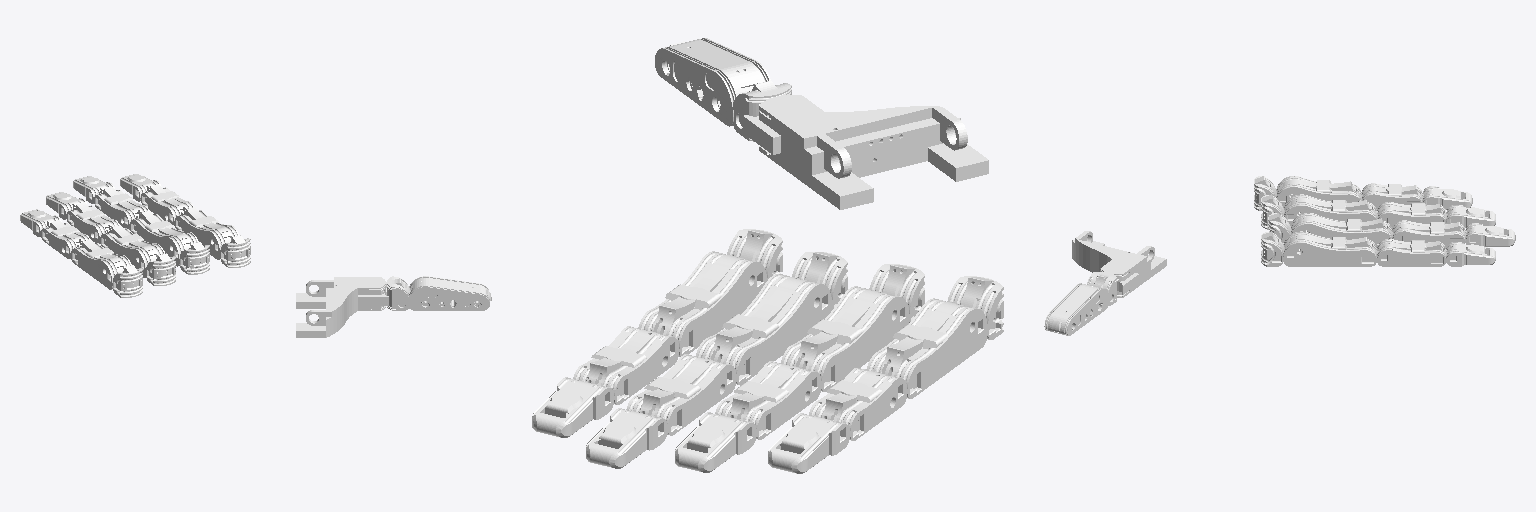
--- Facts derived from the render (not from the file) ---
The picture shows the robot from 3 angles, left to right: view 1: azimuth 30°, elevation 25°; view 2: azimuth 150°, elevation 25°; view 3: azimuth 270°, elevation 25°; orthographic projection.
Robot: converted_robot — 93 links, 92 joints (37 revolute, 55 fixed); root link root; default pose: every joint at zero.
Links seen in each view (by area): view 1: thumb_base, thumb_mp, middle_pp, pinky_pp, index_pp, ring_pp, middle_mp, ring_mp, index_mp, pinky_mp, index_um, middle_um (+7 smaller); view 2: thumb_base, middle_pp, ring_pp, index_pp, pinky_pp, thumb_mp, middle_mp, ring_mp, index_mp, pinky_mp, index_dp, ring_dp (+7 smaller); view 3: thumb_base, index_pp, thumb_mp, middle_pp, index_mp, ring_pp, pinky_pp, middle_mp, ring_mp, pinky_mp, index_dp, middle_dp (+4 smaller).
Link boxes in pixels (bbox=[...]): thumb_base: bbox=[296, 277, 388, 337]; thumb_mp: bbox=[409, 276, 491, 310]; middle_pp: bbox=[130, 211, 198, 266]; pinky_pp: bbox=[71, 240, 131, 289]; index_pp: bbox=[174, 207, 239, 259]; ring_pp: bbox=[100, 225, 164, 277]; middle_mp: bbox=[94, 187, 148, 229]; ring_mp: bbox=[66, 202, 119, 243]; index_mp: bbox=[141, 184, 193, 225]; pinky_mp: bbox=[41, 220, 90, 258]; index_um: bbox=[220, 235, 250, 267]; middle_um: bbox=[179, 242, 209, 274]; thumb_base: bbox=[743, 95, 988, 209]; middle_pp: bbox=[696, 274, 831, 385]; ring_pp: bbox=[781, 286, 909, 391]; index_pp: bbox=[638, 251, 766, 356]; pinky_pp: bbox=[866, 298, 987, 398]; thumb_mp: bbox=[655, 38, 770, 126]; middle_mp: bbox=[626, 354, 736, 435]; ring_mp: bbox=[715, 361, 821, 439]; index_mp: bbox=[573, 326, 679, 404]; pinky_mp: bbox=[809, 368, 907, 440]; index_dp: bbox=[532, 377, 614, 437]; ring_dp: bbox=[675, 412, 756, 472]; thumb_base: bbox=[1072, 231, 1166, 297]; index_pp: bbox=[1283, 231, 1378, 266]; thumb_mp: bbox=[1044, 283, 1108, 335]; middle_pp: bbox=[1291, 213, 1393, 246]; index_mp: bbox=[1377, 239, 1447, 266]; ring_pp: bbox=[1284, 194, 1378, 225]; pinky_pp: bbox=[1276, 176, 1362, 207]; middle_mp: bbox=[1392, 220, 1466, 247]; ring_mp: bbox=[1377, 202, 1447, 228]; pinky_mp: bbox=[1362, 183, 1423, 209]; index_dp: bbox=[1446, 242, 1495, 266]; middle_dp: bbox=[1466, 223, 1515, 246].
Bounding box of the posed robot: 0.1598 × 0.2312 × 0.0157 m (x, y, z).
19 mesh visuals loaded from 20 distinct referenced files (19 binary STL); not drawn: 1 (reference not matched to a file when rendering).

URDF robot description (converted_robot):
<?xml version="1.0" ?>
<robot name="converted_robot">
   <link name="root">
      <inertial>
         <origin xyz="0.0 0.0 0.0" rpy="0.0 0.0 0.0"/>
         <mass value="0.0"/>
         <inertia ixx="0.0" iyy="0.0" izz="0.0" ixy="0" ixz="0" iyz="0"/>
      </inertial>
   </link>
   <link name="palm">
      <inertial>
         <origin xyz="-0.009750183589572366 0.04021403488529142 -0.00039237105510929893" rpy="2.3172560848423656 -1.562874237700241 2.192255222809746"/>
         <mass value="0.16567872925570942"/>
         <inertia ixx="0.0002358825828115673" iyy="0.00017096319828277548" izz="6.854952483029862e-05" ixy="0" ixz="0" iyz="0"/>
      </inertial>
      <visual name="palm_tower">
         <origin xyz="-0.009750183589572366 0.04021403488529142 -0.00039237105510929893" rpy="2.3172560848423656 -1.562874237700241 2.192255222809746"/>
         <geometry>
            <mesh filename="package://viz/models/URDF_Simulation1/converted_palm_tower.stl"/>
         </geometry>
         <material name="white"/>
      </visual>
   </link>
   <link name="root2palm_fixed_jointbody">
      <inertial>
         <origin xyz="0.0 0.0 0.0" rpy="0.0 0.0 0.0"/>
         <mass value="0.001"/>
         <inertia ixx="1e-09" iyy="1e-09" izz="1e-09" ixy="0" ixz="0" iyz="0"/>
      </inertial>
   </link>
   <joint type="fixed" name="root2palm_fixed">
      <parent link="root"/>
      <child link="root2palm_fixed_jointbody"/>
      <origin xyz="0.0 0.0 0.0" rpy="0.0 0.0 0.0"/>
   </joint>
   <joint type="fixed" name="root2palm_fixed_offset">
      <parent link="root2palm_fixed_jointbody"/>
      <child link="palm"/>
      <origin xyz="-0.0 -0.0 -0.0" rpy="0.0 0.0 0.0"/>
   </joint>
   <link name="thumb_base">
      <inertial>
         <origin xyz="-0.05388722858794558 -0.08972924545530461 0.0056400640968846715" rpy="1.1981321937913696 -1.4948979105066995 0.7661853183228415"/>
         <mass value="0.015400950262490496"/>
         <inertia ixx="4.057013831282678e-06" iyy="3.3189900464939896e-06" izz="1.0886313012479005e-06" ixy="0" ixz="0" iyz="0"/>
      </inertial>
      <visual name="thumb_base">
         <origin xyz="-0.05388722858794558 -0.08972924545530461 0.0056400640968846715" rpy="1.1981321937913676 -1.4948979105066995 0.7661853183228435"/>
         <geometry>
            <mesh filename="package://viz/models/URDF_Simulation1/converted_thumb_base.stl"/>
         </geometry>
         <material name="white"/>
      </visual>
   </link>
   <link name="root2thumb_base_jointbody">
      <inertial>
         <origin xyz="0.0 0.0 0.0" rpy="0.0 0.0 0.0"/>
         <mass value="0.001"/>
         <inertia ixx="1e-09" iyy="1e-09" izz="1e-09" ixy="0" ixz="0" iyz="0"/>
      </inertial>
   </link>
   <joint type="revolute" name="root2thumb_base">
      <parent link="palm"/>
      <child link="root2thumb_base_jointbody"/>
      <origin xyz="0.01810025051214078 0.00810024353395844 0.002000000000000001" rpy="0.0 0.0 1.5707999999999998"/>
      <axis xyz="0.872045190552692 -0.48942536267945813 0.0"/>
      <limit lower="-2.27" upper="0.0" effort="100" velocity="100"/>
   </joint>
   <joint type="fixed" name="root2thumb_base_offset">
      <parent link="root2thumb_base_jointbody"/>
      <child link="thumb_base"/>
      <origin xyz="0.0682 0.0663 -0.009" rpy="0.0 0.0 0.0"/>
   </joint>
   <link name="thumb_um_virt">
      <inertial>
         <origin xyz="0.0 0.0 0.0" rpy="0.0 0.0 0.0"/>
         <mass value="0.001"/>
         <inertia ixx="4e-10" iyy="4e-10" izz="3e-10" ixy="0" ixz="0" iyz="0"/>
      </inertial>
   </link>
   <link name="thumb_abd_virt_jointbody">
      <inertial>
         <origin xyz="0.0 0.0 0.0" rpy="0.0 0.0 0.0"/>
         <mass value="0.001"/>
         <inertia ixx="1e-09" iyy="1e-09" izz="1e-09" ixy="0" ixz="0" iyz="0"/>
      </inertial>
   </link>
   <joint type="revolute" name="thumb_abd_virt">
      <parent link="thumb_base"/>
      <child link="thumb_abd_virt_jointbody"/>
      <origin xyz="-0.05696 -0.11383 0.0" rpy="0.0 0.0 0.0"/>
      <axis xyz="0.0 0.0 1.0"/>
      <limit lower="-0.523599" upper="0.523599" effort="100" velocity="100"/>
   </joint>
   <joint type="fixed" name="thumb_abd_virt_offset">
      <parent link="thumb_abd_virt_jointbody"/>
      <child link="thumb_um_virt"/>
      <origin xyz="0.05696 0.11383 -0.0" rpy="0.0 0.0 0.0"/>
   </joint>
   <link name="thumb_um">
      <inertial>
         <origin xyz="-0.06002974424873159 -0.11906183356660797 0.0062186112018148216" rpy="-0.0012484400387758887 0.391076545340286 1.0465689521908192"/>
         <mass value="0.0020561829545655487"/>
         <inertia ixx="5.3193394084926844e-08" iyy="4.4699706473833634e-08" izz="4.1958930900945313e-08" ixy="0" ixz="0" iyz="0"/>
      </inertial>
      <visual name="thumb_um">
         <origin xyz="-0.06002974424873159 -0.11906183356660797 0.0062186112018148216" rpy="-0.0012484400387758887 0.391076545340286 1.0465689521908192"/>
         <geometry>
            <mesh filename="package://viz/models/URDF_Simulation1/converted_thumb_um.stl"/>
         </geometry>
         <material name="white"/>
      </visual>
   </link>
   <link name="thumb_abd_jointbody">
      <inertial>
         <origin xyz="0.0 0.0 0.0" rpy="0.0 0.0 0.0"/>
         <mass value="0.001"/>
         <inertia ixx="1e-09" iyy="1e-09" izz="1e-09" ixy="0" ixz="0" iyz="0"/>
      </inertial>
   </link>
   <joint type="revolute" name="thumb_abd">
      <parent link="thumb_um_virt"/>
      <child link="thumb_abd_jointbody"/>
      <origin xyz="-0.05696 -0.11383 0.0" rpy="0.0 0.0 0.0"/>
      <axis xyz="0.0 0.0 1.0"/>
      <limit lower="-0.523599" upper="0.523599" effort="100" velocity="100"/>
   </joint>
   <joint type="fixed" name="thumb_abd_offset">
      <parent link="thumb_abd_jointbody"/>
      <child link="thumb_um"/>
      <origin xyz="0.05696 0.11383 -0.0" rpy="0.0 0.0 0.0"/>
   </joint>
   <link name="thumb_mp_virt">
      <inertial>
         <origin xyz="0.009525 -0.041187 0.083647" rpy="-0.22291598477092758 -1.2682876286119864 0.3020329839181935"/>
         <mass value="0.001"/>
         <inertia ixx="4e-10" iyy="4e-10" izz="3e-10" ixy="0" ixz="0" iyz="0"/>
      </inertial>
   </link>
   <link name="thumb_um2mp_virt_jointbody">
      <inertial>
         <origin xyz="0.0 0.0 0.0" rpy="0.0 0.0 0.0"/>
         <mass value="0.001"/>
         <inertia ixx="1e-09" iyy="1e-09" izz="1e-09" ixy="0" ixz="0" iyz="0"/>
      </inertial>
   </link>
   <joint type="revolute" name="thumb_um2mp_virt">
      <parent link="thumb_um"/>
      <child link="thumb_um2mp_virt_jointbody"/>
      <origin xyz="-0.072947 -0.114166 0.008" rpy="0.0 0.0 0.0"/>
      <axis xyz="0.872045190552692 -0.48942536267945813 0.0"/>
      <limit lower="-1.5708" upper="0.16" effort="100" velocity="100"/>
   </joint>
   <joint type="fixed" name="thumb_um2mp_virt_offset">
      <parent link="thumb_um2mp_virt_jointbody"/>
      <child link="thumb_mp_virt"/>
      <origin xyz="0.072947 0.114166 -0.008" rpy="0.0 0.0 0.0"/>
   </joint>
   <link name="thumb_mp">
      <inertial>
         <origin xyz="-0.07215929044573305 -0.14052795432320075 0.00551798779969882" rpy="2.9311721332498637 -1.5138717843315774 -1.881310598490373"/>
         <mass value="0.007559331420198066"/>
         <inertia ixx="9.573996733464855e-07" iyy="9.284932904903027e-07" izz="1.7221260520814514e-07" ixy="0" ixz="0" iyz="0"/>
      </inertial>
      <visual name="thumb_mp">
         <origin xyz="-0.07215929044573305 -0.14052795432320075 0.00551798779969882" rpy="2.9311721332498664 -1.5138717843315772 -1.8813105984903749"/>
         <geometry>
            <mesh filename="package://viz/models/URDF_Simulation1/converted_thumb_mp.stl"/>
         </geometry>
         <material name="white"/>
      </visual>
   </link>
   <link name="thumb_um2mp_jointbody">
      <inertial>
         <origin xyz="0.0 0.0 0.0" rpy="0.0 0.0 0.0"/>
         <mass value="0.001"/>
         <inertia ixx="1e-09" iyy="1e-09" izz="1e-09" ixy="0" ixz="0" iyz="0"/>
      </inertial>
   </link>
   <joint type="revolute" name="thumb_um2mp">
      <parent link="thumb_mp_virt"/>
      <child link="thumb_um2mp_jointbody"/>
      <origin xyz="-0.062947 -0.124166 0.008" rpy="0.0 0.0 0.0"/>
      <axis xyz="0.872045190552692 -0.48942536267945813 0.0"/>
      <limit lower="-1.5708" upper="0.16" effort="100" velocity="100"/>
   </joint>
   <joint type="fixed" name="thumb_um2mp_offset">
      <parent link="thumb_um2mp_jointbody"/>
      <child link="thumb_mp"/>
      <origin xyz="0.062947 0.124166 -0.008" rpy="0.0 0.0 0.0"/>
   </joint>
   <link name="index_um_virt">
      <inertial>
         <origin xyz="0.0 0.0 0.0" rpy="0.0 0.0 0.0"/>
         <mass value="0.001"/>
         <inertia ixx="4e-10" iyy="4e-10" izz="3e-10" ixy="0" ixz="0" iyz="0"/>
      </inertial>
   </link>
   <link name="index_abd_virt_jointbody">
      <inertial>
         <origin xyz="0.0 0.0 0.0" rpy="0.0 0.0 0.0"/>
         <mass value="0.001"/>
         <inertia ixx="1e-09" iyy="1e-09" izz="1e-09" ixy="0" ixz="0" iyz="0"/>
      </inertial>
   </link>
   <joint type="revolute" name="index_abd_virt">
      <parent link="palm"/>
      <child link="index_abd_virt_jointbody"/>
      <origin xyz="0.0250405 0.0852 0.0" rpy="-1.5707963267948966 1.5707963267948966 0.0"/>
      <axis xyz="1.0 0.0 0.0"/>
      <limit lower="-0.264" upper="0.264" effort="100" velocity="100"/>
   </joint>
   <joint type="fixed" name="index_abd_virt_offset">
      <parent link="index_abd_virt_jointbody"/>
      <child link="index_um_virt"/>
      <origin xyz="-0.0 -0.0 -0.0" rpy="0.0 0.0 0.0"/>
   </joint>
   <link name="index_um">
      <inertial>
         <origin xyz="0.0003158098365906876 -0.00022882513673609314 -0.0036213650800712305" rpy="3.11344183213456 -1.2906456267839208 -3.102620114783569"/>
         <mass value="0.0017045161564725113"/>
         <inertia ixx="4.089294671130922e-08" iyy="3.323975046971373e-08" izz="2.9482536116204133e-08" ixy="0" ixz="0" iyz="0"/>
      </inertial>
      <visual name="index_um">
         <origin xyz="0.0003158098365906876 -0.00022882513673609314 -0.0036213650800712305" rpy="3.11344183213456 -1.2906456267839206 -3.102620114783569"/>
         <geometry>
            <mesh filename="package://viz/models/URDF_Simulation1/converted_index_um.stl"/>
         </geometry>
         <material name="white"/>
      </visual>
   </link>
   <link name="index_abd_jointbody">
      <inertial>
         <origin xyz="0.0 0.0 0.0" rpy="0.0 0.0 0.0"/>
         <mass value="0.001"/>
         <inertia ixx="1e-09" iyy="1e-09" izz="1e-09" ixy="0" ixz="0" iyz="0"/>
      </inertial>
   </link>
   <joint type="revolute" name="index_abd">
      <parent link="index_um_virt"/>
      <child link="index_abd_jointbody"/>
      <origin xyz="0.0 0.0 0.018" rpy="0.0 0.0 0.0"/>
      <axis xyz="1.0 0.0 0.0"/>
      <limit lower="-0.264" upper="0.264" effort="100" velocity="100"/>
   </joint>
   <joint type="fixed" name="index_abd_offset">
      <parent link="index_abd_jointbody"/>
      <child link="index_um"/>
      <origin xyz="-0.0 -0.0 -0.0" rpy="0.0 0.0 0.0"/>
   </joint>
   <link name="index_pp_virt">
      <inertial>
         <origin xyz="0.0 0.0 0.0" rpy="0.0 0.0 0.0"/>
         <mass value="0.001"/>
         <inertia ixx="4e-10" iyy="4e-10" izz="3e-10" ixy="0" ixz="0" iyz="0"/>
      </inertial>
   </link>
   <link name="root2index_pp_virt_jointbody">
      <inertial>
         <origin xyz="0.0 0.0 0.0" rpy="0.0 0.0 0.0"/>
         <mass value="0.001"/>
         <inertia ixx="1e-09" iyy="1e-09" izz="1e-09" ixy="0" ixz="0" iyz="0"/>
      </inertial>
   </link>
   <joint type="revolute" name="root2index_pp_virt">
      <parent link="index_um"/>
      <child link="root2index_pp_virt_jointbody"/>
      <origin xyz="0.00270000102 5.9952065978308155e-19 -0.00743303472" rpy="0.0 0.0 -1.5707963267948963"/>
      <axis xyz="1.0 0.0 0.0"/>
      <limit lower="-0.157" upper="0.829" effort="100" velocity="100"/>
   </joint>
   <joint type="fixed" name="root2index_pp_virt_offset">
      <parent link="root2index_pp_virt_jointbody"/>
      <child link="index_pp_virt"/>
      <origin xyz="-0.0 -0.00270000102 -0.0" rpy="0.0 0.0 0.0"/>
   </joint>
   <link name="index_pp">
      <inertial>
         <origin xyz="0.0001596722768568773 0.0010995555377848291 0.01288169966540817" rpy="-0.0005635947558751964 0.04346039485505382 1.5731856208599835"/>
         <mass value="0.006934011983539235"/>
         <inertia ixx="1.1618492939118344e-06" iyy="1.1338221765005137e-06" izz="1.5329642762575548e-07" ixy="0" ixz="0" iyz="0"/>
      </inertial>
      <visual name="index_pp">
         <origin xyz="0.0001596722768568773 0.0010995555377848291 0.01288169966540817" rpy="-0.0005635947558753074 0.0434603948550536 1.5731856208599835"/>
         <geometry>
            <mesh filename="package://viz/models/URDF_Simulation1/converted_index_pp.stl"/>
         </geometry>
         <material name="white"/>
      </visual>
   </link>
   <link name="root2index_pp_jointbody">
      <inertial>
         <origin xyz="0.0 0.0 0.0" rpy="0.0 0.0 0.0"/>
         <mass value="0.001"/>
         <inertia ixx="1e-09" iyy="1e-09" izz="1e-09" ixy="0" ixz="0" iyz="0"/>
      </inertial>
   </link>
   <joint type="revolute" name="root2index_pp">
      <parent link="index_pp_virt"/>
      <child link="root2index_pp_jointbody"/>
      <origin xyz="0.0 0.00250000102 0.018" rpy="0.0 0.0 0.0"/>
      <axis xyz="1.0 0.0 0.0"/>
      <limit lower="-0.157" upper="0.829" effort="100" velocity="100"/>
   </joint>
   <joint type="fixed" name="root2index_pp_offset">
      <parent link="root2index_pp_jointbody"/>
      <child link="index_pp"/>
      <origin xyz="-0.0 -0.00250000102 -0.0" rpy="0.0 0.0 0.0"/>
   </joint>
   <link name="index_pp_sens">
      <inertial>
         <origin xyz="0.0 -0.004 0.018" rpy="0.0 0.0 0.0"/>
         <mass value="0.0"/>
         <inertia ixx="0.0" iyy="0.0" izz="0.0" ixy="0" ixz="0" iyz="0"/>
      </inertial>
   </link>
   <link name="index_pp2index_pp_sens_fixed_jointbody">
      <inertial>
         <origin xyz="0.0 0.0 0.0" rpy="0.0 0.0 0.0"/>
         <mass value="0.001"/>
         <inertia ixx="1e-09" iyy="1e-09" izz="1e-09" ixy="0" ixz="0" iyz="0"/>
      </inertial>
   </link>
   <joint type="fixed" name="index_pp2index_pp_sens_fixed">
      <parent link="index_pp"/>
      <child link="index_pp2index_pp_sens_fixed_jointbody"/>
      <origin xyz="0.0 -0.004 0.018" rpy="0.0 0.0 0.0"/>
   </joint>
   <joint type="fixed" name="index_pp2index_pp_sens_fixed_offset">
      <parent link="index_pp2index_pp_sens_fixed_jointbody"/>
      <child link="index_pp_sens"/>
      <origin xyz="-0.0 -0.0 -0.0" rpy="0.0 0.0 0.0"/>
   </joint>
   <link name="index_mp_virt">
      <inertial>
         <origin xyz="0.0 0.0 0.0" rpy="0.0 0.0 0.0"/>
         <mass value="0.001"/>
         <inertia ixx="4e-10" iyy="4e-10" izz="3e-10" ixy="0" ixz="0" iyz="0"/>
      </inertial>
   </link>
   <link name="index_pp2mp_virt_jointbody">
      <inertial>
         <origin xyz="0.0 0.0 0.0" rpy="0.0 0.0 0.0"/>
         <mass value="0.001"/>
         <inertia ixx="1e-09" iyy="1e-09" izz="1e-09" ixy="0" ixz="0" iyz="0"/>
      </inertial>
   </link>
   <joint type="revolute" name="index_pp2mp_virt">
      <parent link="index_pp"/>
      <child link="index_pp2mp_virt_jointbody"/>
      <origin xyz="0.0 0.00370000102 0.03101612481" rpy="0.0 0.0 0.0"/>
      <axis xyz="1.0 0.0 0.0"/>
      <limit lower="-0.131" upper="0.96" effort="100" velocity="100"/>
   </joint>
   <joint type="fixed" name="index_pp2mp_virt_offset">
      <parent link="index_pp2mp_virt_jointbody"/>
      <child link="index_mp_virt"/>
      <origin xyz="-0.0 -0.00370000102 -0.0" rpy="0.0 0.0 0.0"/>
   </joint>
   <link name="index_mp">
      <inertial>
         <origin xyz="0.00011615953600365228 0.002416765310794026 0.01109535507776531" rpy="0.005169070242558416 0.005498569028424383 1.568902720116945"/>
         <mass value="0.00391743874952473"/>
         <inertia ixx="3.710686435522325e-07" iyy="3.400719694509783e-07" izz="7.116706680564789e-08" ixy="0" ixz="0" iyz="0"/>
      </inertial>
      <visual name="index_mp">
         <origin xyz="0.00011615953600365228 0.002416765310794026 0.01109535507776531" rpy="0.005169070242558416 0.005498569028424383 1.568902720116945"/>
         <geometry>
            <mesh filename="package://viz/models/URDF_Simulation1/converted_index_mp.stl"/>
         </geometry>
         <material name="white"/>
      </visual>
   </link>
   <link name="index_pp2mp_jointbody">
      <inertial>
         <origin xyz="0.0 0.0 0.0" rpy="0.0 0.0 0.0"/>
         <mass value="0.001"/>
         <inertia ixx="1e-09" iyy="1e-09" izz="1e-09" ixy="0" ixz="0" iyz="0"/>
      </inertial>
   </link>
   <joint type="revolute" name="index_pp2mp">
      <parent link="index_mp_virt"/>
      <child link="index_pp2mp_jointbody"/>
      <origin xyz="0.0 0.00350000102 0.012" rpy="0.0 0.0 0.0"/>
      <axis xyz="1.0 0.0 0.0"/>
      <limit lower="-0.131" upper="0.96" effort="100" velocity="100"/>
   </joint>
   <joint type="fixed" name="index_pp2mp_offset">
      <parent link="index_pp2mp_jointbody"/>
      <child link="index_mp"/>
      <origin xyz="-0.0 -0.00350000102 -0.0" rpy="0.0 0.0 0.0"/>
   </joint>
   <link name="index_dp_virt">
      <inertial>
         <origin xyz="0.0 0.0 0.0" rpy="0.0 0.0 0.0"/>
         <mass value="0.001"/>
         <inertia ixx="4e-10" iyy="4e-10" izz="3e-10" ixy="0" ixz="0" iyz="0"/>
      </inertial>
   </link>
   <link name="index_mp2dp_virt_jointbody">
      <inertial>
         <origin xyz="0.0 0.0 0.0" rpy="0.0 0.0 0.0"/>
         <mass value="0.001"/>
         <inertia ixx="1e-09" iyy="1e-09" izz="1e-09" ixy="0" ixz="0" iyz="0"/>
      </inertial>
   </link>
   <joint type="revolute" name="index_mp2dp_virt">
      <parent link="index_mp"/>
      <child link="index_mp2dp_virt_jointbody"/>
      <origin xyz="0.0 0.00370000102 0.0235" rpy="0.0 0.0 0.0"/>
      <axis xyz="1.0 0.0 0.0"/>
      <limit lower="-0.093" upper="0.682" effort="100" velocity="100"/>
   </joint>
   <joint type="fixed" name="index_mp2dp_virt_offset">
      <parent link="index_mp2dp_virt_jointbody"/>
      <child link="index_dp_virt"/>
      <origin xyz="-0.0 -0.00370000102 -0.0" rpy="0.0 0.0 0.0"/>
   </joint>
   <link name="index_dp">
      <inertial>
         <origin xyz="0.00011951811090689032 0.003120678557622198 0.007573116228122234" rpy="-0.001893780008492163 0.05085216250260771 1.5852087171365512"/>
         <mass value="0.0021639273972605794"/>
         <inertia ixx="1.0745931609543126e-07" iyy="9.222697287325353e-08" izz="2.9490220566203e-08" ixy="0" ixz="0" iyz="0"/>
      </inertial>
      <visual name="index_dp">
         <origin xyz="0.00011951811090689032 0.003120678557622198 0.007573116228122234" rpy="-0.001893780008492163 0.05085216250260771 1.5852087171365514"/>
         <geometry>
            <mesh filename="package://viz/models/URDF_Simulation1/converted_index_dp.stl"/>
         </geometry>
         <material name="white"/>
      </visual>
   </link>
   <link name="index_mp2dp_jointbody">
      <inertial>
         <origin xyz="0.0 0.0 0.0" rpy="0.0 0.0 0.0"/>
         <mass value="0.001"/>
         <inertia ixx="1e-09" iyy="1e-09" izz="1e-09" ixy="0" ixz="0" iyz="0"/>
      </inertial>
   </link>
   <joint type="revolute" name="index_mp2dp">
      <parent link="index_dp_virt"/>
      <child link="index_mp2dp_jointbody"/>
      <origin xyz="0.0 0.00350000102 0.009" rpy="0.0 0.0 0.0"/>
      <axis xyz="1.0 0.0 0.0"/>
      <limit lower="-0.093" upper="0.682" effort="100" velocity="100"/>
   </joint>
   <joint type="fixed" name="index_mp2dp_offset">
      <parent link="index_mp2dp_jointbody"/>
      <child link="index_dp"/>
      <origin xyz="-0.0 -0.00350000102 -0.0" rpy="0.0 0.0 0.0"/>
   </joint>
   <link name="index_fingertip">
      <inertial>
         <origin xyz="0.0 0.0 0.01" rpy="0.0 0.0 0.0"/>
         <mass value="0.0"/>
         <inertia ixx="0.0" iyy="0.0" izz="0.0" ixy="0" ixz="0" iyz="0"/>
      </inertial>
   </link>
   <link name="index_dp2index_fingertip_fixed_jointbody">
      <inertial>
         <origin xyz="0.0 0.0 0.0" rpy="0.0 0.0 0.0"/>
         <mass value="0.001"/>
         <inertia ixx="1e-09" iyy="1e-09" izz="1e-09" ixy="0" ixz="0" iyz="0"/>
      </inertial>
   </link>
   <joint type="fixed" name="index_dp2index_fingertip_fixed">
      <parent link="index_dp"/>
      <child link="index_dp2index_fingertip_fixed_jointbody"/>
      <origin xyz="0.0 0.0 0.01" rpy="0.0 0.0 0.0"/>
   </joint>
   <joint type="fixed" name="index_dp2index_fingertip_fixed_offset">
      <parent link="index_dp2index_fingertip_fixed_jointbody"/>
      <child link="index_fingertip"/>
      <origin xyz="-0.0 -0.0 -0.0" rpy="0.0 0.0 0.0"/>
   </joint>
   <link name="middle_um_virt">
      <inertial>
         <origin xyz="0.0 0.0 0.0" rpy="0.0 0.0 0.0"/>
         <mass value="0.001"/>
         <inertia ixx="4e-10" iyy="4e-10" izz="3e-10" ixy="0" ixz="0" iyz="0"/>
      </inertial>
   </link>
   <link name="middle_abd_virt_jointbody">
      <inertial>
         <origin xyz="0.0 0.0 0.0" rpy="0.0 0.0 0.0"/>
         <mass value="0.001"/>
         <inertia ixx="1e-09" iyy="1e-09" izz="1e-09" ixy="0" ixz="0" iyz="0"/>
      </inertial>
   </link>
   <joint type="revolute" name="middle_abd_virt">
      <parent link="palm"/>
      <child link="middle_abd_virt_jointbody"/>
      <origin xyz="0.0036 0.0886 0.0" rpy="-1.5707963267948966 1.5707963267948966 0.0"/>
      <axis xyz="1.0 0.0 0.0"/>
      <limit lower="-0.264" upper="0.264" effort="100" velocity="100"/>
   </joint>
   <joint type="fixed" name="middle_abd_virt_offset">
      <parent link="middle_abd_virt_jointbody"/>
      <child link="middle_um_virt"/>
      <origin xyz="-0.0 -0.0 -0.0" rpy="0.0 0.0 0.0"/>
   </joint>
   <link name="middle_um">
      <inertial>
         <origin xyz="0.0003169177085226183 -4.3580464142454146e-05 -0.00358903262860973" rpy="3.1142767042476764 -1.2906066346792464 -3.101151560580364"/>
         <mass value="0.0017047365062490877"/>
         <inertia ixx="4.089764222360987e-08" iyy="3.324524824350021e-08" izz="2.9498620771363934e-08" ixy="0" ixz="0" iyz="0"/>
      </inertial>
      <visual name="middle_um">
         <origin xyz="0.0003169177085226183 -4.3580464142454146e-05 -0.00358903262860973" rpy="3.1142767042476764 -1.2906066346792464 -3.101151560580364"/>
         <geometry>
            <mesh filename="package://viz/models/URDF_Simulation1/converted_middle_um.stl"/>
         </geometry>
         <material name="white"/>
      </visual>
   </link>
   <link name="middle_abd_jointbody">
      <inertial>
         <origin xyz="0.0 0.0 0.0" rpy="0.0 0.0 0.0"/>
         <mass value="0.001"/>
         <inertia ixx="1e-09" iyy="1e-09" izz="1e-09" ixy="0" ixz="0" iyz="0"/>
      </inertial>
   </link>
   <joint type="revolute" name="middle_abd">
      <parent link="middle_um_virt"/>
      <child link="middle_abd_jointbody"/>
      <origin xyz="0.0 0.0 0.018" rpy="0.0 0.0 0.0"/>
      <axis xyz="1.0 0.0 0.0"/>
      <limit lower="-0.264" upper="0.264" effort="100" velocity="100"/>
   </joint>
   <joint type="fixed" name="middle_abd_offset">
      <parent link="middle_abd_jointbody"/>
      <child link="middle_um"/>
      <origin xyz="-0.0 -0.0 -0.0" rpy="0.0 0.0 0.0"/>
   </joint>
   <link name="middle_pp_virt">
      <inertial>
         <origin xyz="0.0 0.0 0.0" rpy="0.0 0.0 0.0"/>
         <mass value="0.001"/>
         <inertia ixx="4e-10" iyy="4e-10" izz="3e-10" ixy="0" ixz="0" iyz="0"/>
      </inertial>
   </link>
   <link name="root2middle_pp_virt_jointbody">
      <inertial>
         <origin xyz="0.0 0.0 0.0" rpy="0.0 0.0 0.0"/>
         <mass value="0.001"/>
         <inertia ixx="1e-09" iyy="1e-09" izz="1e-09" ixy="0" ixz="0" iyz="0"/>
      </inertial>
   </link>
   <joint type="revolute" name="root2middle_pp_virt">
      <parent link="middle_um"/>
      <child link="root2middle_pp_virt_jointbody"/>
      <origin xyz="0.002700001023199999 5.99520660493624e-19 -0.00743303472" rpy="0.0 0.0 -1.5707963267948963"/>
      <axis xyz="1.0 0.0 0.0"/>
      <limit lower="-0.157" upper="0.829" effort="100" velocity="100"/>
   </joint>
   <joint type="fixed" name="root2middle_pp_virt_offset">
      <parent link="root2middle_pp_virt_jointbody"/>
      <child link="middle_pp_virt"/>
      <origin xyz="-0.0 -0.002700001023199999 -0.0" rpy="0.0 0.0 0.0"/>
   </joint>
   <link name="middle_pp">
      <inertial>
         <origin xyz="-2.677702921494884e-05 0.0012083795875931697 0.014736324701324952" rpy="-0.0005735052637568794 0.04126377469973974 1.57485854430987"/>
         <mass value="0.007431440532107334"/>
         <inertia ixx="1.4952081907729184e-06" iyy="1.4626277055074752e-06" izz="1.6114556634419006e-07" ixy="0" ixz="0" iyz="0"/>
      </inertial>
      <visual name="middle_pp">
         <origin xyz="-2.677702921494884e-05 0.0012083795875931697 0.014736324701324952" rpy="-0.0005735052637568794 0.041263774699739963 1.57485854430987"/>
         <geometry>
            <mesh filename="package://viz/models/URDF_Simulation1/converted_middle_pp.stl"/>
         </geometry>
         <material name="white"/>
      </visual>
   </link>
   <link name="root2middle_pp_jointbody">
      <inertial>
         <origin xyz="0.0 0.0 0.0" rpy="0.0 0.0 0.0"/>
         <mass value="0.001"/>
         <inertia ixx="1e-09" iyy="1e-09" izz="1e-09" ixy="0" ixz="0" iyz="0"/>
      </inertial>
   </link>
   <joint type="revolute" name="root2middle_pp">
      <parent link="middle_pp_virt"/>
      <child link="root2middle_pp_jointbody"/>
      <origin xyz="0.0 0.002500001023199999 0.018" rpy="0.0 0.0 0.0"/>
      <axis xyz="1.0 0.0 0.0"/>
      <limit lower="-0.157" upper="0.829" effort="100" velocity="100"/>
   </joint>
   <joint type="fixed" name="root2middle_pp_offset">
      <parent link="root2middle_pp_jointbody"/>
      <child link="middle_pp"/>
      <origin xyz="-0.0 -0.002500001023199999 -0.0" rpy="0.0 0.0 0.0"/>
   </joint>
   <link name="middle_pp_sens">
      <inertial>
         <origin xyz="0.0 -0.004 0.022" rpy="0.0 0.0 0.0"/>
         <mass value="0.0"/>
         <inertia ixx="0.0" iyy="0.0" izz="0.0" ixy="0" ixz="0" iyz="0"/>
      </inertial>
   </link>
   <link name="middle_pp2middle_pp_sens_fixed_jointbody">
      <inertial>
         <origin xyz="0.0 0.0 0.0" rpy="0.0 0.0 0.0"/>
         <mass value="0.001"/>
         <inertia ixx="1e-09" iyy="1e-09" izz="1e-09" ixy="0" ixz="0" iyz="0"/>
      </inertial>
   </link>
   <joint type="fixed" name="middle_pp2middle_pp_sens_fixed">
      <parent link="middle_pp"/>
      <child link="middle_pp2middle_pp_sens_fixed_jointbody"/>
      <origin xyz="0.0 -0.004 0.022" rpy="0.0 0.0 0.0"/>
   </joint>
   <joint type="fixed" name="middle_pp2middle_pp_sens_fixed_offset">
      <parent link="middle_pp2middle_pp_sens_fixed_jointbody"/>
      <child link="middle_pp_sens"/>
      <origin xyz="-0.0 -0.0 -0.0" rpy="0.0 0.0 0.0"/>
   </joint>
   <link name="middle_mp_virt">
      <inertial>
         <origin xyz="0.0 0.0 0.0" rpy="0.0 0.0 0.0"/>
         <mass value="0.001"/>
         <inertia ixx="4e-10" iyy="4e-10" izz="3e-10" ixy="0" ixz="0" iyz="0"/>
      </inertial>
   </link>
   <link name="middle_pp2mp_virt_jointbody">
      <inertial>
         <origin xyz="0.0 0.0 0.0" rpy="0.0 0.0 0.0"/>
         <mass value="0.001"/>
         <inertia ixx="1e-09" iyy="1e-09" izz="1e-09" ixy="0" ixz="0" iyz="0"/>
      </inertial>
   </link>
   <joint type="revolute" name="middle_pp2mp_virt">
      <parent link="middle_pp"/>
      <child link="middle_pp2mp_virt_jointbody"/>
      <origin xyz="0.0 0.0037000000000999996 0.03501428277" rpy="0.0 0.0 0.0"/>
      <axis xyz="1.0 0.0 0.0"/>
      <limit lower="-0.131" upper="0.96" effort="100" velocity="100"/>
   </joint>
   <joint type="fixed" name="middle_pp2mp_virt_offset">
      <parent link="middle_pp2mp_virt_jointbody"/>
      <child link="middle_mp_virt"/>
      <origin xyz="-0.0 -0.0037000000000999996 -0.0" rpy="0.0 0.0 0.0"/>
   </joint>
   <link name="middle_mp">
      <inertial>
         <origin xyz="-7.28956068113046e-05 0.002462634567765748 0.01217139362029477" rpy="0.004902958340904706 0.004923370489530621 1.569477804197481"/>
         <mass value="0.004122015435614137"/>
         <inertia ixx="4.381415089977954e-07" iyy="4.050525829693079e-07" izz="7.452990013142263e-08" ixy="0" ixz="0" iyz="0"/>
      </inertial>
      <visual name="middle_mp">
         <origin xyz="-7.28956068113046e-05 0.002462634567765748 0.01217139362029477" rpy="0.004902958340904706 0.004923370489530621 1.569477804197481"/>
         <geometry>
            <mesh filename="package://viz/models/URDF_Simulation1/converted_middle_mp.stl"/>
         </geometry>
         <material name="white"/>
      </visual>
   </link>
   <link name="middle_pp2mp_jointbody">
      <inertial>
         <origin xyz="0.0 0.0 0.0" rpy="0.0 0.0 0.0"/>
         <mass value="0.001"/>
         <inertia ixx="1e-09" iyy="1e-09" izz="1e-09" ixy="0" ixz="0" iyz="0"/>
      </inertial>
   </link>
   <joint type="revolute" name="middle_pp2mp">
      <parent link="middle_mp_virt"/>
      <child link="middle_pp2mp_jointbody"/>
      <origin xyz="0.0 0.0035000000000999995 0.012" rpy="0.0 0.0 0.0"/>
      <axis xyz="1.0 0.0 0.0"/>
      <limit lower="-0.131" upper="0.96" effort="100" velocity="100"/>
   </joint>
   <joint type="fixed" name="middle_pp2mp_offset">
      <parent link="middle_pp2mp_jointbody"/>
      <child link="middle_mp"/>
      <origin xyz="-0.0 -0.0035000000000999995 -0.0" rpy="0.0 0.0 0.0"/>
   </joint>
   <link name="middle_dp_virt">
      <inertial>
         <origin xyz="0.0 0.0 0.0" rpy="0.0 0.0 0.0"/>
         <mass value="0.001"/>
         <inertia ixx="4e-10" iyy="4e-10" izz="3e-10" ixy="0" ixz="0" iyz="0"/>
      </inertial>
   </link>
   <link name="middle_mp2dp_virt_jointbody">
      <inertial>
         <origin xyz="0.0 0.0 0.0" rpy="0.0 0.0 0.0"/>
         <mass value="0.001"/>
         <inertia ixx="1e-09" iyy="1e-09" izz="1e-09" ixy="0" ixz="0" iyz="0"/>
      </inertial>
   </link>
   <joint type="revolute" name="middle_mp2dp_virt">
      <parent link="middle_mp"/>
      <child link="middle_mp2dp_virt_jointbody"/>
      <origin xyz="0.0 0.0037000000000999996 0.0255" rpy="0.0 0.0 0.0"/>
      <axis xyz="1.0 0.0 0.0"/>
      <limit lower="-0.093" upper="0.682" effort="100" velocity="100"/>
   </joint>
   <joint type="fixed" name="middle_mp2dp_virt_offset">
      <parent link="middle_mp2dp_virt_jointbody"/>
      <child link="middle_dp_virt"/>
      <origin xyz="-0.0 -0.0037000000000999996 -0.0" rpy="0.0 0.0 0.0"/>
   </joint>
   <link name="middle_dp">
      <inertial>
         <origin xyz="3.0280177180663673e-05 0.0031179204392796566 0.0076814262845085746" rpy="0.00823787222220096 0.050673311372765095 1.5580538179925818"/>
         <mass value="0.002165187096269976"/>
         <inertia ixx="1.0756444680126282e-07" iyy="9.22710567268227e-08" izz="2.9564221225540638e-08" ixy="0" ixz="0" iyz="0"/>
      </inertial>
      <visual name="middle_dp">
         <origin xyz="3.0280177180663673e-05 0.0031179204392796566 0.0076814262845085746" rpy="0.00823787222220096 0.050673311372765095 1.5580538179925818"/>
         <geometry>
            <mesh filename="package://viz/models/URDF_Simulation1/converted_middle_dp.stl"/>
         </geometry>
         <material name="white"/>
      </visual>
   </link>
   <link name="middle_mp2dp_jointbody">
      <inertial>
         <origin xyz="0.0 0.0 0.0" rpy="0.0 0.0 0.0"/>
         <mass value="0.001"/>
         <inertia ixx="1e-09" iyy="1e-09" izz="1e-09" ixy="0" ixz="0" iyz="0"/>
      </inertial>
   </link>
   <joint type="revolute" name="middle_mp2dp">
      <parent link="middle_dp_virt"/>
      <child link="middle_mp2dp_jointbody"/>
      <origin xyz="0.0 0.0035000000000999995 0.009" rpy="0.0 0.0 0.0"/>
      <axis xyz="1.0 0.0 0.0"/>
      <limit lower="-0.093" upper="0.682" effort="100" velocity="100"/>
   </joint>
   <joint type="fixed" name="middle_mp2dp_offset">
      <parent link="middle_mp2dp_jointbody"/>
      <child link="middle_dp"/>
      <origin xyz="-0.0 -0.0035000000000999995 -0.0" rpy="0.0 0.0 0.0"/>
   </joint>
   <link name="middle_fingertip">
      <inertial>
         <origin xyz="0.0 0.0 0.01" rpy="0.0 0.0 0.0"/>
         <mass value="0.0"/>
         <inertia ixx="0.0" iyy="0.0" izz="0.0" ixy="0" ixz="0" iyz="0"/>
      </inertial>
   </link>
   <link name="middle_dp2middle_fingertip_fixed_jointbody">
      <inertial>
         <origin xyz="0.0 0.0 0.0" rpy="0.0 0.0 0.0"/>
         <mass value="0.001"/>
         <inertia ixx="1e-09" iyy="1e-09" izz="1e-09" ixy="0" ixz="0" iyz="0"/>
      </inertial>
   </link>
   <joint type="fixed" name="middle_dp2middle_fingertip_fixed">
      <parent link="middle_dp"/>
      <child link="middle_dp2middle_fingertip_fixed_jointbody"/>
      <origin xyz="0.0 0.0 0.01" rpy="0.0 0.0 0.0"/>
   </joint>
   <joint type="fixed" name="middle_dp2middle_fingertip_fixed_offset">
      <parent link="middle_dp2middle_fingertip_fixed_jointbody"/>
      <child link="middle_fingertip"/>
      <origin xyz="-0.0 -0.0 -0.0" rpy="0.0 0.0 0.0"/>
   </joint>
   <link name="ring_um_virt">
      <inertial>
         <origin xyz="0.0 0.0 0.0" rpy="0.0 0.0 0.0"/>
         <mass value="0.001"/>
         <inertia ixx="4e-10" iyy="4e-10" izz="3e-10" ixy="0" ixz="0" iyz="0"/>
      </inertial>
   </link>
   <link name="ring_abd_virt_jointbody">
      <inertial>
         <origin xyz="0.0 0.0 0.0" rpy="0.0 0.0 0.0"/>
         <mass value="0.001"/>
         <inertia ixx="1e-09" iyy="1e-09" izz="1e-09" ixy="0" ixz="0" iyz="0"/>
      </inertial>
   </link>
   <joint type="revolute" name="ring_abd_virt">
      <parent link="palm"/>
      <child link="ring_abd_virt_jointbody"/>
      <origin xyz="-0.017817999999999997 0.0852 0.0" rpy="-1.5707963267948966 1.5707963267948966 0.0"/>
      <axis xyz="1.0 0.0 0.0"/>
      <limit lower="-0.264" upper="0.264" effort="100" velocity="100"/>
   </joint>
   <joint type="fixed" name="ring_abd_virt_offset">
      <parent link="ring_abd_virt_jointbody"/>
      <child link="ring_um_virt"/>
      <origin xyz="-0.0 -0.0 -0.0" rpy="0.0 0.0 0.0"/>
   </joint>
   <link name="ring_um">
      <inertial>
         <origin xyz="0.00031526315659068625 -4.483507673610013e-05 -0.0035895413100712256" rpy="3.1134418321345594 -1.2906456267839208 -3.1026201147835684"/>
         <mass value="0.0017045161564725113"/>
         <inertia ixx="4.089294671130922e-08" iyy="3.323975046971373e-08" izz="2.9482536116204133e-08" ixy="0" ixz="0" iyz="0"/>
      </inertial>
      <visual name="ring_um">
         <origin xyz="0.00031526315659068625 -4.483507673610013e-05 -0.0035895413100712256" rpy="3.11344183213456 -1.2906456267839206 -3.102620114783569"/>
         <geometry>
            <mesh filename="package://viz/models/URDF_Simulation1/converted_ring_um.stl"/>
         </geometry>
         <material name="white"/>
      </visual>
   </link>
   <link name="ring_abd_jointbody">
      <inertial>
         <origin xyz="0.0 0.0 0.0" rpy="0.0 0.0 0.0"/>
         <mass value="0.001"/>
         <inertia ixx="1e-09" iyy="1e-09" izz="1e-09" ixy="0" ixz="0" iyz="0"/>
      </inertial>
   </link>
   <joint type="revolute" name="ring_abd">
      <parent link="ring_um_virt"/>
      <child link="ring_abd_jointbody"/>
      <origin xyz="0.0 0.0 0.018" rpy="0.0 0.0 0.0"/>
      <axis xyz="1.0 0.0 0.0"/>
      <limit lower="-0.264" upper="0.264" effort="100" velocity="100"/>
   </joint>
   <joint type="fixed" name="ring_abd_offset">
      <parent link="ring_abd_jointbody"/>
      <child link="ring_um"/>
      <origin xyz="-0.0 -0.0 -0.0" rpy="0.0 0.0 0.0"/>
   </joint>
   <link name="ring_pp_virt">
      <inertial>
         <origin xyz="0.0 0.0 0.0" rpy="0.0 0.0 0.0"/>
         <mass value="0.001"/>
         <inertia ixx="4e-10" iyy="4e-10" izz="3e-10" ixy="0" ixz="0" iyz="0"/>
      </inertial>
   </link>
   <link name="root2ring_pp_virt_jointbody">
      <inertial>
         <origin xyz="0.0 0.0 0.0" rpy="0.0 0.0 0.0"/>
         <mass value="0.001"/>
         <inertia ixx="1e-09" iyy="1e-09" izz="1e-09" ixy="0" ixz="0" iyz="0"/>
      </inertial>
   </link>
   <joint type="revolute" name="root2ring_pp_virt">
      <parent link="ring_um"/>
      <child link="root2ring_pp_virt_jointbody"/>
      <origin xyz="0.002700001023199999 5.99520660493624e-19 -0.00743303472" rpy="0.0 0.0 -1.5707963267948963"/>
      <axis xyz="1.0 0.0 0.0"/>
      <limit lower="-0.157" upper="0.829" effort="100" velocity="100"/>
   </joint>
   <joint type="fixed" name="root2ring_pp_virt_offset">
      <parent link="root2ring_pp_virt_jointbody"/>
      <child link="ring_pp_virt"/>
      <origin xyz="-0.0 -0.002700001023199999 -0.0" rpy="0.0 0.0 0.0"/>
   </joint>
   <link name="ring_pp">
      <inertial>
         <origin xyz="-2.4317783143122662e-05 0.0010990088577848291 0.012970488715408169" rpy="-0.0005635947558751964 0.04346039485505382 1.5731856208599835"/>
         <mass value="0.006934011983539235"/>
         <inertia ixx="1.1618492939118344e-06" iyy="1.1338221765005137e-06" izz="1.5329642762575548e-07" ixy="0" ixz="0" iyz="0"/>
      </inertial>
      <visual name="ring_pp">
         <origin xyz="-2.4317783143122662e-05 0.0010990088577848291 0.012970488715408169" rpy="-0.0005635947558753074 0.0434603948550536 1.5731856208599835"/>
         <geometry>
            <mesh filename="package://viz/models/URDF_Simulation1/converted_ring_pp.stl"/>
         </geometry>
         <material name="white"/>
      </visual>
   </link>
   <link name="root2ring_pp_jointbody">
      <inertial>
         <origin xyz="0.0 0.0 0.0" rpy="0.0 0.0 0.0"/>
         <mass value="0.001"/>
         <inertia ixx="1e-09" iyy="1e-09" izz="1e-09" ixy="0" ixz="0" iyz="0"/>
      </inertial>
   </link>
   <joint type="revolute" name="root2ring_pp">
      <parent link="ring_pp_virt"/>
      <child link="root2ring_pp_jointbody"/>
      <origin xyz="0.0 0.002500001023199999 0.018" rpy="0.0 0.0 0.0"/>
      <axis xyz="1.0 0.0 0.0"/>
      <limit lower="-0.157" upper="0.829" effort="100" velocity="100"/>
   </joint>
   <joint type="fixed" name="root2ring_pp_offset">
      <parent link="root2ring_pp_jointbody"/>
      <child link="ring_pp"/>
      <origin xyz="-0.0 -0.002500001023199999 -0.0" rpy="0.0 0.0 0.0"/>
   </joint>
   <link name="ring_pp_sens">
      <inertial>
         <origin xyz="0.0 -0.004 0.018" rpy="0.0 0.0 0.0"/>
         <mass value="0.0"/>
         <inertia ixx="0.0" iyy="0.0" izz="0.0" ixy="0" ixz="0" iyz="0"/>
      </inertial>
   </link>
   <link name="ring_pp2ring_pp_sens_fixed_jointbody">
      <inertial>
         <origin xyz="0.0 0.0 0.0" rpy="0.0 0.0 0.0"/>
         <mass value="0.001"/>
         <inertia ixx="1e-09" iyy="1e-09" izz="1e-09" ixy="0" ixz="0" iyz="0"/>
      </inertial>
   </link>
   <joint type="fixed" name="ring_pp2ring_pp_sens_fixed">
      <parent link="ring_pp"/>
      <child link="ring_pp2ring_pp_sens_fixed_jointbody"/>
      <origin xyz="0.0 -0.004 0.018" rpy="0.0 0.0 0.0"/>
   </joint>
   <joint type="fixed" name="ring_pp2ring_pp_sens_fixed_offset">
      <parent link="ring_pp2ring_pp_sens_fixed_jointbody"/>
      <child link="ring_pp_sens"/>
      <origin xyz="-0.0 -0.0 -0.0" rpy="0.0 0.0 0.0"/>
   </joint>
   <link name="ring_mp_virt">
      <inertial>
         <origin xyz="0.0 0.0 0.0" rpy="0.0 0.0 0.0"/>
         <mass value="0.001"/>
         <inertia ixx="4e-10" iyy="4e-10" izz="3e-10" ixy="0" ixz="0" iyz="0"/>
      </inertial>
   </link>
   <link name="ring_pp2mp_virt_jointbody">
      <inertial>
         <origin xyz="0.0 0.0 0.0" rpy="0.0 0.0 0.0"/>
         <mass value="0.001"/>
         <inertia ixx="1e-09" iyy="1e-09" izz="1e-09" ixy="0" ixz="0" iyz="0"/>
      </inertial>
   </link>
   <joint type="revolute" name="ring_pp2mp_virt">
      <parent link="ring_pp"/>
      <child link="ring_pp2mp_virt_jointbody"/>
      <origin xyz="0.0 0.0037000000000999996 0.03101612481" rpy="0.0 0.0 0.0"/>
      <axis xyz="1.0 0.0 0.0"/>
      <limit lower="-0.131" upper="0.96" effort="100" velocity="100"/>
   </joint>
   <joint type="fixed" name="ring_pp2mp_virt_offset">
      <parent link="ring_pp2mp_virt_jointbody"/>
      <child link="ring_mp_virt"/>
      <origin xyz="-0.0 -0.0037000000000999996 -0.0" rpy="0.0 0.0 0.0"/>
   </joint>
   <link name="ring_mp">
      <inertial>
         <origin xyz="-6.783052399634767e-05 0.002416218630794026 0.011184144137765306" rpy="0.005169070242558416 0.005498569028424383 1.568902720116945"/>
         <mass value="0.00391743874952473"/>
         <inertia ixx="3.710686435522325e-07" iyy="3.400719694509783e-07" izz="7.116706680564789e-08" ixy="0" ixz="0" iyz="0"/>
      </inertial>
      <visual name="ring_mp">
         <origin xyz="-6.783052399634767e-05 0.002416218630794026 0.011184144137765306" rpy="0.005169070242558416 0.005498569028424383 1.568902720116945"/>
         <geometry>
            <mesh filename="package://viz/models/URDF_Simulation1/converted_ring_mp.stl"/>
         </geometry>
         <material name="white"/>
      </visual>
   </link>
   <link name="ring_pp2mp_jointbody">
      <inertial>
         <origin xyz="0.0 0.0 0.0" rpy="0.0 0.0 0.0"/>
         <mass value="0.001"/>
         <inertia ixx="1e-09" iyy="1e-09" izz="1e-09" ixy="0" ixz="0" iyz="0"/>
      </inertial>
   </link>
   <joint type="revolute" name="ring_pp2mp">
      <parent link="ring_mp_virt"/>
      <child link="ring_pp2mp_jointbody"/>
      <origin xyz="0.0 0.0035000000000999995 0.012" rpy="0.0 0.0 0.0"/>
      <axis xyz="1.0 0.0 0.0"/>
      <limit lower="-0.131" upper="0.96" effort="100" velocity="100"/>
   </joint>
   <joint type="fixed" name="ring_pp2mp_offset">
      <parent link="ring_pp2mp_jointbody"/>
      <child link="ring_mp"/>
      <origin xyz="-0.0 -0.0035000000000999995 -0.0" rpy="0.0 0.0 0.0"/>
   </joint>
   <link name="ring_dp_virt">
      <inertial>
         <origin xyz="0.0 0.0 0.0" rpy="0.0 0.0 0.0"/>
         <mass value="0.001"/>
         <inertia ixx="4e-10" iyy="4e-10" izz="3e-10" ixy="0" ixz="0" iyz="0"/>
      </inertial>
   </link>
   <link name="ring_mp2dp_virt_jointbody">
      <inertial>
         <origin xyz="0.0 0.0 0.0" rpy="0.0 0.0 0.0"/>
         <mass value="0.001"/>
         <inertia ixx="1e-09" iyy="1e-09" izz="1e-09" ixy="0" ixz="0" iyz="0"/>
      </inertial>
   </link>
   <joint type="revolute" name="ring_mp2dp_virt">
      <parent link="ring_mp"/>
      <child link="ring_mp2dp_virt_jointbody"/>
      <origin xyz="0.0 0.0037000000000999996 0.0235" rpy="0.0 0.0 0.0"/>
      <axis xyz="1.0 0.0 0.0"/>
      <limit lower="-0.093" upper="0.682" effort="100" velocity="100"/>
   </joint>
   <joint type="fixed" name="ring_mp2dp_virt_offset">
      <parent link="ring_mp2dp_virt_jointbody"/>
      <child link="ring_dp_virt"/>
      <origin xyz="-0.0 -0.0037000000000999996 -0.0" rpy="0.0 0.0 0.0"/>
   </joint>
   <link name="ring_dp">
      <inertial>
         <origin xyz="-6.447194909310963e-05 0.003120131877622198 0.007661905288122245" rpy="-0.001893780008492163 0.05085216250260771 1.5852087171365512"/>
         <mass value="0.0021639273972605794"/>
         <inertia ixx="1.0745931609543126e-07" iyy="9.222697287325353e-08" izz="2.9490220566203e-08" ixy="0" ixz="0" iyz="0"/>
      </inertial>
      <visual name="ring_dp">
         <origin xyz="-6.447194909310963e-05 0.003120131877622198 0.007661905288122245" rpy="-0.001893780008492163 0.05085216250260771 1.5852087171365514"/>
         <geometry>
            <mesh filename="package://viz/models/URDF_Simulation1/converted_ring_dp.stl"/>
         </geometry>
         <material name="white"/>
      </visual>
   </link>
   <link name="ring_mp2dp_jointbody">
      <inertial>
         <origin xyz="0.0 0.0 0.0" rpy="0.0 0.0 0.0"/>
         <mass value="0.001"/>
         <inertia ixx="1e-09" iyy="1e-09" izz="1e-09" ixy="0" ixz="0" iyz="0"/>
      </inertial>
   </link>
   <joint type="revolute" name="ring_mp2dp">
      <parent link="ring_dp_virt"/>
      <child link="ring_mp2dp_jointbody"/>
      <origin xyz="0.0 0.0035000000000999995 0.009" rpy="0.0 0.0 0.0"/>
      <axis xyz="1.0 0.0 0.0"/>
      <limit lower="-0.093" upper="0.682" effort="100" velocity="100"/>
   </joint>
   <joint type="fixed" name="ring_mp2dp_offset">
      <parent link="ring_mp2dp_jointbody"/>
      <child link="ring_dp"/>
      <origin xyz="-0.0 -0.0035000000000999995 -0.0" rpy="0.0 0.0 0.0"/>
   </joint>
   <link name="ring_fingertip">
      <inertial>
         <origin xyz="0.0 0.0 0.01" rpy="0.0 0.0 0.0"/>
         <mass value="0.0"/>
         <inertia ixx="0.0" iyy="0.0" izz="0.0" ixy="0" ixz="0" iyz="0"/>
      </inertial>
   </link>
   <link name="ring_dp2ring_fingertip_fixed_jointbody">
      <inertial>
         <origin xyz="0.0 0.0 0.0" rpy="0.0 0.0 0.0"/>
         <mass value="0.001"/>
         <inertia ixx="1e-09" iyy="1e-09" izz="1e-09" ixy="0" ixz="0" iyz="0"/>
      </inertial>
   </link>
   <joint type="fixed" name="ring_dp2ring_fingertip_fixed">
      <parent link="ring_dp"/>
      <child link="ring_dp2ring_fingertip_fixed_jointbody"/>
      <origin xyz="0.0 0.0 0.01" rpy="0.0 0.0 0.0"/>
   </joint>
   <joint type="fixed" name="ring_dp2ring_fingertip_fixed_offset">
      <parent link="ring_dp2ring_fingertip_fixed_jointbody"/>
      <child link="ring_fingertip"/>
      <origin xyz="-0.0 -0.0 -0.0" rpy="0.0 0.0 0.0"/>
   </joint>
   <link name="pinky_um_virt">
      <inertial>
         <origin xyz="0.0 0.0 0.0" rpy="0.0 0.0 0.0"/>
         <mass value="0.001"/>
         <inertia ixx="4e-10" iyy="4e-10" izz="3e-10" ixy="0" ixz="0" iyz="0"/>
      </inertial>
   </link>
   <link name="pinky_abd_virt_jointbody">
      <inertial>
         <origin xyz="0.0 0.0 0.0" rpy="0.0 0.0 0.0"/>
         <mass value="0.001"/>
         <inertia ixx="1e-09" iyy="1e-09" izz="1e-09" ixy="0" ixz="0" iyz="0"/>
      </inertial>
   </link>
   <joint type="revolute" name="pinky_abd_virt">
      <parent link="palm"/>
      <child link="pinky_abd_virt_jointbody"/>
      <origin xyz="-0.03931395 0.0815 0.0" rpy="-1.5707963267948966 1.5707963267948966 0.0"/>
      <axis xyz="1.0 0.0 0.0"/>
      <limit lower="-0.264" upper="0.264" effort="100" velocity="100"/>
   </joint>
   <joint type="fixed" name="pinky_abd_virt_offset">
      <parent link="pinky_abd_virt_jointbody"/>
      <child link="pinky_um_virt"/>
      <origin xyz="-0.0 -0.0 -0.0" rpy="0.0 0.0 0.0"/>
   </joint>
   <link name="pinky_um">
      <inertial>
         <origin xyz="0.0003137018308382922 -4.3327904489992575e-05 -0.003588735077300156" rpy="3.113495656532974 -1.2922565745690526 -3.099483256875682"/>
         <mass value="0.001706479287008203"/>
         <inertia ixx="4.090623492327608e-08" iyy="3.326893495119032e-08" izz="2.9518955384678924e-08" ixy="0" ixz="0" iyz="0"/>
      </inertial>
      <visual name="pinky_um">
         <origin xyz="0.0003137018308382922 -4.3327904489992575e-05 -0.003588735077300156" rpy="3.1134956565329746 -1.2922565745690526 -3.0994832568756823"/>
         <geometry>
            <mesh filename="package://viz/models/URDF_Simulation1/converted_pinky_um.stl"/>
         </geometry>
         <material name="white"/>
      </visual>
   </link>
   <link name="pinky_abd_jointbody">
      <inertial>
         <origin xyz="0.0 0.0 0.0" rpy="0.0 0.0 0.0"/>
         <mass value="0.001"/>
         <inertia ixx="1e-09" iyy="1e-09" izz="1e-09" ixy="0" ixz="0" iyz="0"/>
      </inertial>
   </link>
   <joint type="revolute" name="pinky_abd">
      <parent link="pinky_um_virt"/>
      <child link="pinky_abd_jointbody"/>
      <origin xyz="0.0 0.0 0.018" rpy="0.0 0.0 0.0"/>
      <axis xyz="1.0 0.0 0.0"/>
      <limit lower="-0.264" upper="0.264" effort="100" velocity="100"/>
   </joint>
   <joint type="fixed" name="pinky_abd_offset">
      <parent link="pinky_abd_jointbody"/>
      <child link="pinky_um"/>
      <origin xyz="-0.0 -0.0 -0.0" rpy="0.0 0.0 0.0"/>
   </joint>
   <link name="pinky_pp_virt">
      <inertial>
         <origin xyz="0.0 0.0 0.0" rpy="0.0 0.0 0.0"/>
         <mass value="0.001"/>
         <inertia ixx="4e-10" iyy="4e-10" izz="3e-10" ixy="0" ixz="0" iyz="0"/>
      </inertial>
   </link>
   <link name="root2pinky_pp_virt_jointbody">
      <inertial>
         <origin xyz="0.0 0.0 0.0" rpy="0.0 0.0 0.0"/>
         <mass value="0.001"/>
         <inertia ixx="1e-09" iyy="1e-09" izz="1e-09" ixy="0" ixz="0" iyz="0"/>
      </inertial>
   </link>
   <joint type="revolute" name="root2pinky_pp_virt">
      <parent link="pinky_um"/>
      <child link="root2pinky_pp_virt_jointbody"/>
      <origin xyz="0.00270000102 5.9952065978308155e-19 -0.00743303472" rpy="0.0 0.0 -1.5707963267948963"/>
      <axis xyz="1.0 0.0 0.0"/>
      <limit lower="-0.157" upper="0.829" effort="100" velocity="100"/>
   </joint>
   <joint type="fixed" name="root2pinky_pp_virt_offset">
      <parent link="root2pinky_pp_virt_jointbody"/>
      <child link="pinky_pp_virt"/>
      <origin xyz="-0.0 -0.00270000102 -0.0" rpy="0.0 0.0 0.0"/>
   </joint>
   <link name="pinky_pp">
      <inertial>
         <origin xyz="-2.109461568381571e-05 0.000996163274490867 0.011153640747459392" rpy="-0.0005633739671052629 0.04664075180888805 1.5728100242694358"/>
         <mass value="0.006411007113106174"/>
         <inertia ixx="8.839796343393693e-07" iyy="8.605669091164771e-07" izz="1.4433356510402823e-07" ixy="0" ixz="0" iyz="0"/>
      </inertial>
      <visual name="pinky_pp">
         <origin xyz="-2.109461568381571e-05 0.000996163274490867 0.011153640747459392" rpy="-0.0005633739671052629 0.04664075180888805 1.5728100242694358"/>
         <geometry>
            <mesh filename="package://viz/models/URDF_Simulation1/converted_pinky_pp.stl"/>
         </geometry>
         <material name="white"/>
      </visual>
   </link>
   <link name="root2pinky_pp_jointbody">
      <inertial>
         <origin xyz="0.0 0.0 0.0" rpy="0.0 0.0 0.0"/>
         <mass value="0.001"/>
         <inertia ixx="1e-09" iyy="1e-09" izz="1e-09" ixy="0" ixz="0" iyz="0"/>
      </inertial>
   </link>
   <joint type="revolute" name="root2pinky_pp">
      <parent link="pinky_pp_virt"/>
      <child link="root2pinky_pp_jointbody"/>
      <origin xyz="0.0 0.00250000102 0.018" rpy="0.0 0.0 0.0"/>
      <axis xyz="1.0 0.0 0.0"/>
      <limit lower="-0.157" upper="0.829" effort="100" velocity="100"/>
   </joint>
   <joint type="fixed" name="root2pinky_pp_offset">
      <parent link="root2pinky_pp_jointbody"/>
      <child link="pinky_pp"/>
      <origin xyz="-0.0 -0.00250000102 -0.0" rpy="0.0 0.0 0.0"/>
   </joint>
   <link name="pinky_pp_sens">
      <inertial>
         <origin xyz="0.0 -0.004 0.015" rpy="0.0 0.0 0.0"/>
         <mass value="0.0"/>
         <inertia ixx="0.0" iyy="0.0" izz="0.0" ixy="0" ixz="0" iyz="0"/>
      </inertial>
   </link>
   <link name="pinky_pp2pinky_pp_sens_fixed_jointbody">
      <inertial>
         <origin xyz="0.0 0.0 0.0" rpy="0.0 0.0 0.0"/>
         <mass value="0.001"/>
         <inertia ixx="1e-09" iyy="1e-09" izz="1e-09" ixy="0" ixz="0" iyz="0"/>
      </inertial>
   </link>
   <joint type="fixed" name="pinky_pp2pinky_pp_sens_fixed">
      <parent link="pinky_pp"/>
      <child link="pinky_pp2pinky_pp_sens_fixed_jointbody"/>
      <origin xyz="0.0 -0.004 0.015" rpy="0.0 0.0 0.0"/>
   </joint>
   <joint type="fixed" name="pinky_pp2pinky_pp_sens_fixed_offset">
      <parent link="pinky_pp2pinky_pp_sens_fixed_jointbody"/>
      <child link="pinky_pp_sens"/>
      <origin xyz="-0.0 -0.0 -0.0" rpy="0.0 0.0 0.0"/>
   </joint>
   <link name="pinky_mp_virt">
      <inertial>
         <origin xyz="0.0 0.0 0.0" rpy="0.0 0.0 0.0"/>
         <mass value="0.001"/>
         <inertia ixx="4e-10" iyy="4e-10" izz="3e-10" ixy="0" ixz="0" iyz="0"/>
      </inertial>
   </link>
   <link name="pinky_pp2mp_virt_jointbody">
      <inertial>
         <origin xyz="0.0 0.0 0.0" rpy="0.0 0.0 0.0"/>
         <mass value="0.001"/>
         <inertia ixx="1e-09" iyy="1e-09" izz="1e-09" ixy="0" ixz="0" iyz="0"/>
      </inertial>
   </link>
   <joint type="revolute" name="pinky_pp2mp_virt">
      <parent link="pinky_pp"/>
      <child link="pinky_pp2mp_virt_jointbody"/>
      <origin xyz="0.0 0.00370000102 0.02701851213434598" rpy="0.0 0.0 0.0"/>
      <axis xyz="1.0 0.0 0.0"/>
      <limit lower="-0.131" upper="0.96" effort="100" velocity="100"/>
   </joint>
   <joint type="fixed" name="pinky_pp2mp_virt_offset">
      <parent link="pinky_pp2mp_virt_jointbody"/>
      <child link="pinky_mp_virt"/>
      <origin xyz="-0.0 -0.00370000102 -0.0" rpy="0.0 0.0 0.0"/>
   </joint>
   <link name="pinky_mp">
      <inertial>
         <origin xyz="-5.650322932876373e-05 0.0022775589837975138 0.009212500242364308" rpy="0.004881996418440782 0.005874182493044833 1.5691948119058772"/>
         <mass value="0.0035266787657145257"/>
         <inertia ixx="2.591198468813237e-07" iyy="2.327720232400065e-07" izz="6.529283109208708e-08" ixy="0" ixz="0" iyz="0"/>
      </inertial>
      <visual name="pinky_mp">
         <origin xyz="-5.650322932876373e-05 0.0022775589837975138 0.009212500242364308" rpy="0.004881996418440782 0.005874182493044833 1.569194811905877"/>
         <geometry>
            <mesh filename="package://viz/models/URDF_Simulation1/converted_pinky_mp.stl"/>
         </geometry>
         <material name="white"/>
      </visual>
   </link>
   <link name="pinky_pp2mp_jointbody">
      <inertial>
         <origin xyz="0.0 0.0 0.0" rpy="0.0 0.0 0.0"/>
         <mass value="0.001"/>
         <inertia ixx="1e-09" iyy="1e-09" izz="1e-09" ixy="0" ixz="0" iyz="0"/>
      </inertial>
   </link>
   <joint type="revolute" name="pinky_pp2mp">
      <parent link="pinky_mp_virt"/>
      <child link="pinky_pp2mp_jointbody"/>
      <origin xyz="0.0 0.00350000102 0.011999999999999999" rpy="0.0 0.0 0.0"/>
      <axis xyz="1.0 0.0 0.0"/>
      <limit lower="-0.131" upper="0.96" effort="100" velocity="100"/>
   </joint>
   <joint type="fixed" name="pinky_pp2mp_offset">
      <parent link="pinky_pp2mp_jointbody"/>
      <child link="pinky_mp"/>
      <origin xyz="-0.0 -0.00350000102 -0.0" rpy="0.0 0.0 0.0"/>
   </joint>
   <link name="pinky_dp_virt">
      <inertial>
         <origin xyz="0.0 0.0 0.0" rpy="0.0 0.0 0.0"/>
         <mass value="0.001"/>
         <inertia ixx="4e-10" iyy="4e-10" izz="3e-10" ixy="0" ixz="0" iyz="0"/>
      </inertial>
   </link>
   <link name="pinky_mp2dp_virt_jointbody">
      <inertial>
         <origin xyz="0.0 0.0 0.0" rpy="0.0 0.0 0.0"/>
         <mass value="0.001"/>
         <inertia ixx="1e-09" iyy="1e-09" izz="1e-09" ixy="0" ixz="0" iyz="0"/>
      </inertial>
   </link>
   <joint type="revolute" name="pinky_mp2dp_virt">
      <parent link="pinky_mp"/>
      <child link="pinky_mp2dp_virt_jointbody"/>
      <origin xyz="0.0 0.00370000102 0.0195" rpy="0.0 0.0 0.0"/>
      <axis xyz="1.0 0.0 0.0"/>
      <limit lower="-0.093" upper="0.682" effort="100" velocity="100"/>
   </joint>
   <joint type="fixed" name="pinky_mp2dp_virt_offset">
      <parent link="pinky_mp2dp_virt_jointbody"/>
      <child link="pinky_dp_virt"/>
      <origin xyz="-0.0 -0.00370000102 -0.0" rpy="0.0 0.0 0.0"/>
   </joint>
   <link name="pinky_dp">
      <inertial>
         <origin xyz="-7.350958926732876e-06 0.0032238257911780463 0.007640724715587549" rpy="0.0038160751754089395 0.053495156395318766 1.57056799955947"/>
         <mass value="0.002076623300267396"/>
         <inertia ixx="1.0632503961582051e-07" iyy="9.094510215249103e-08" izz="2.870836456430631e-08" ixy="0" ixz="0" iyz="0"/>
      </inertial>
      <visual name="pinky_dp">
         <origin xyz="-7.350958926732876e-06 0.0032238257911780463 0.007640724715587549" rpy="0.0038160751754088285 0.053495156395318766 1.57056799955947"/>
         <geometry>
            <mesh filename="package://viz/models/URDF_Simulation1/converted_pinky_dp.stl"/>
         </geometry>
         <material name="white"/>
      </visual>
   </link>
   <link name="pinky_mp2dp_jointbody">
      <inertial>
         <origin xyz="0.0 0.0 0.0" rpy="0.0 0.0 0.0"/>
         <mass value="0.001"/>
         <inertia ixx="1e-09" iyy="1e-09" izz="1e-09" ixy="0" ixz="0" iyz="0"/>
      </inertial>
   </link>
   <joint type="revolute" name="pinky_mp2dp">
      <parent link="pinky_dp_virt"/>
      <child link="pinky_mp2dp_jointbody"/>
      <origin xyz="0.0 0.00350000102 0.008999999999999998" rpy="0.0 0.0 0.0"/>
      <axis xyz="1.0 0.0 0.0"/>
      <limit lower="-0.093" upper="0.682" effort="100" velocity="100"/>
   </joint>
   <joint type="fixed" name="pinky_mp2dp_offset">
      <parent link="pinky_mp2dp_jointbody"/>
      <child link="pinky_dp"/>
      <origin xyz="-0.0 -0.00350000102 -0.0" rpy="0.0 0.0 0.0"/>
   </joint>
   <link name="pinky_fingertip">
      <inertial>
         <origin xyz="0.0 0.0 0.01" rpy="0.0 0.0 0.0"/>
         <mass value="0.0"/>
         <inertia ixx="0.0" iyy="0.0" izz="0.0" ixy="0" ixz="0" iyz="0"/>
      </inertial>
   </link>
   <link name="pinky_dp2pinky_fingertip_fixed_jointbody">
      <inertial>
         <origin xyz="0.0 0.0 0.0" rpy="0.0 0.0 0.0"/>
         <mass value="0.001"/>
         <inertia ixx="1e-09" iyy="1e-09" izz="1e-09" ixy="0" ixz="0" iyz="0"/>
      </inertial>
   </link>
   <joint type="fixed" name="pinky_dp2pinky_fingertip_fixed">
      <parent link="pinky_dp"/>
      <child link="pinky_dp2pinky_fingertip_fixed_jointbody"/>
      <origin xyz="0.0 0.0 0.01" rpy="0.0 0.0 0.0"/>
   </joint>
   <joint type="fixed" name="pinky_dp2pinky_fingertip_fixed_offset">
      <parent link="pinky_dp2pinky_fingertip_fixed_jointbody"/>
      <child link="pinky_fingertip"/>
      <origin xyz="-0.0 -0.0 -0.0" rpy="0.0 0.0 0.0"/>
   </joint>
   <material name="white">
      <color rgba="1 1 1 1"/>
   </material>
</robot>
